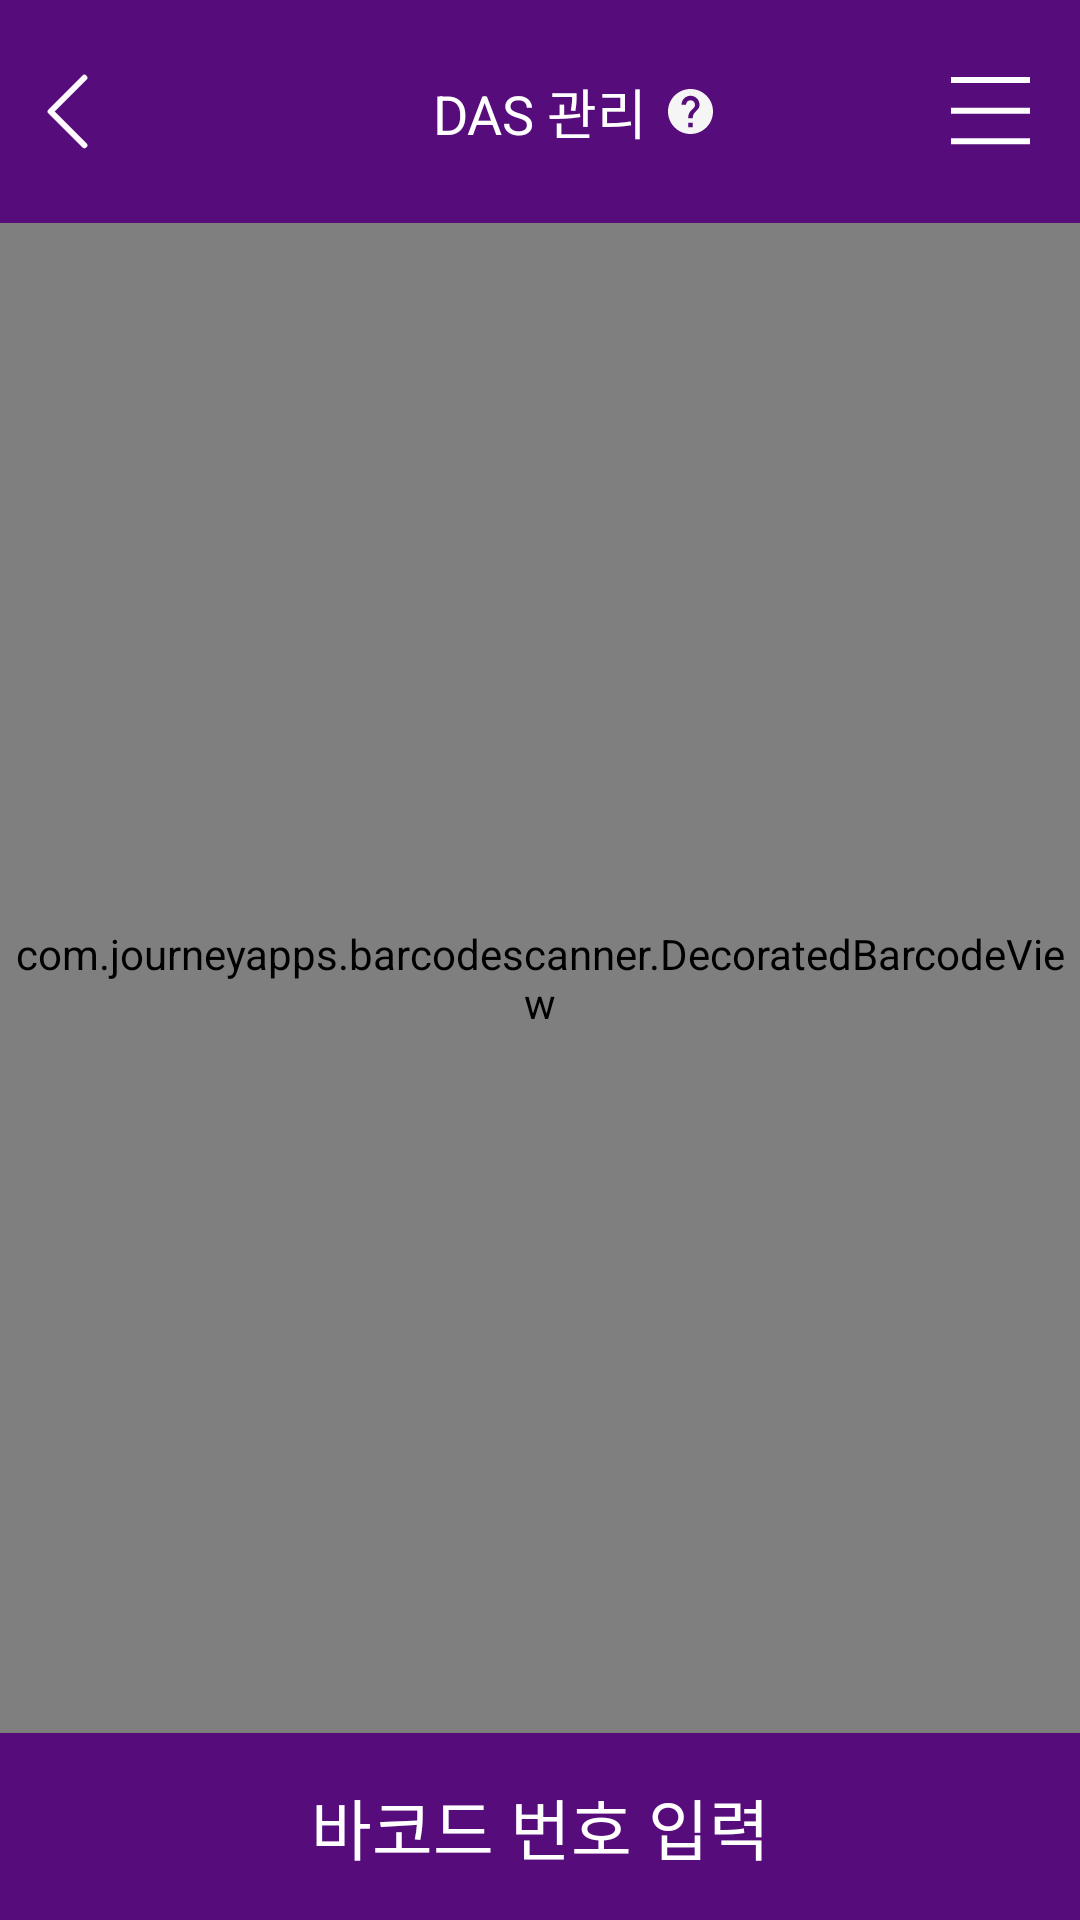

Named icons in this screenshot (1080×1920) and their bounding boxes, BBox(x1, y1, x2, y2):
back: BBox(47, 74, 88, 149)
menu: BBox(951, 77, 1030, 145)
question: BBox(668, 89, 713, 134)
